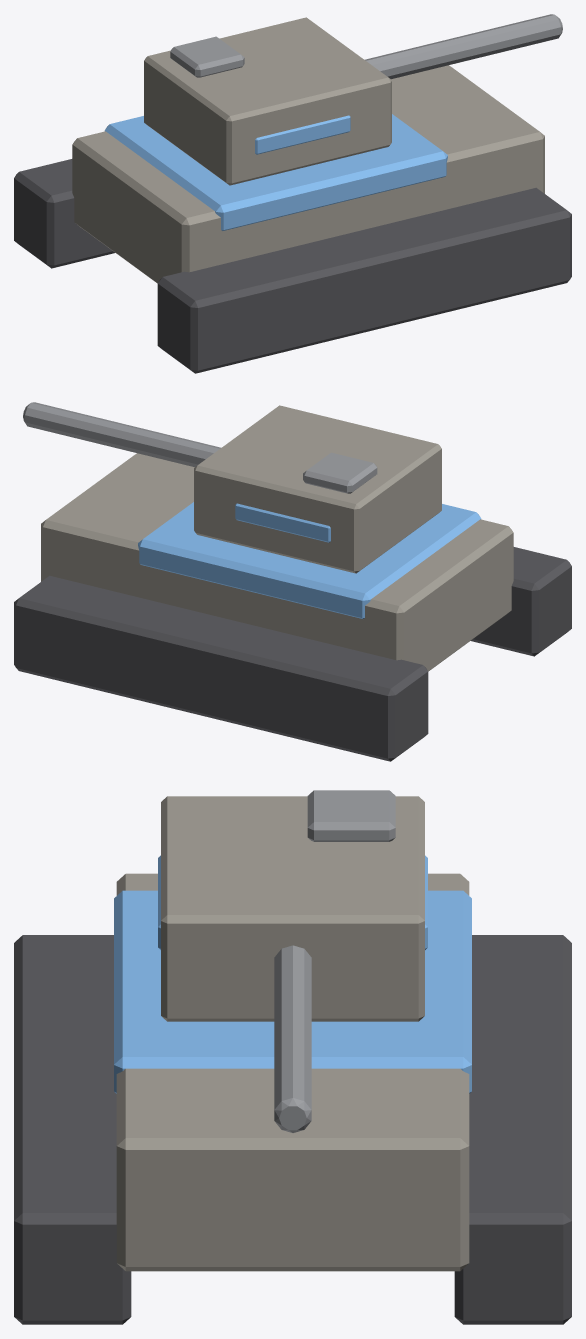
File: vanguard.glb
3 views of the same model, one above another, from view 1: azimuth 30°, elevation 25°; view 2: azimuth 150°, elevation 25°; view 3: azimuth 270°, elevation 25° (orthographic). The views are drawn at different scales.
Visible parts, largest first — view 1: Hull, Turret; view 2: Hull, Turret; view 3: Hull, Turret.
Part boxes in pixels (left/top/right/bottom): Hull: left=14, top=65, right=571, bottom=373; Turret: left=144, top=14, right=562, bottom=185; Hull: left=14, top=453, right=571, bottom=761; Turret: left=23, top=402, right=441, bottom=573; Hull: left=14, top=873, right=571, bottom=1324; Turret: left=158, top=790, right=427, bottom=1132.
Size of the model in its own units: 2.75 by 1.24 by 1.9.
